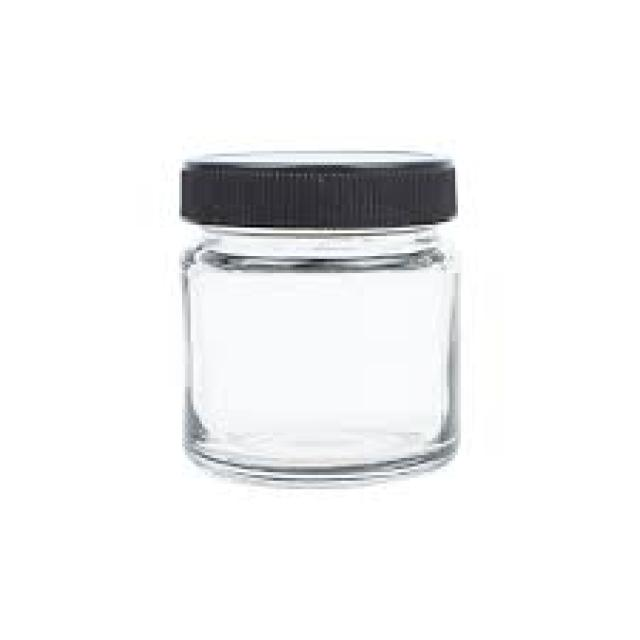glass: (182, 222, 461, 486)
plastic: (176, 154, 455, 225)
